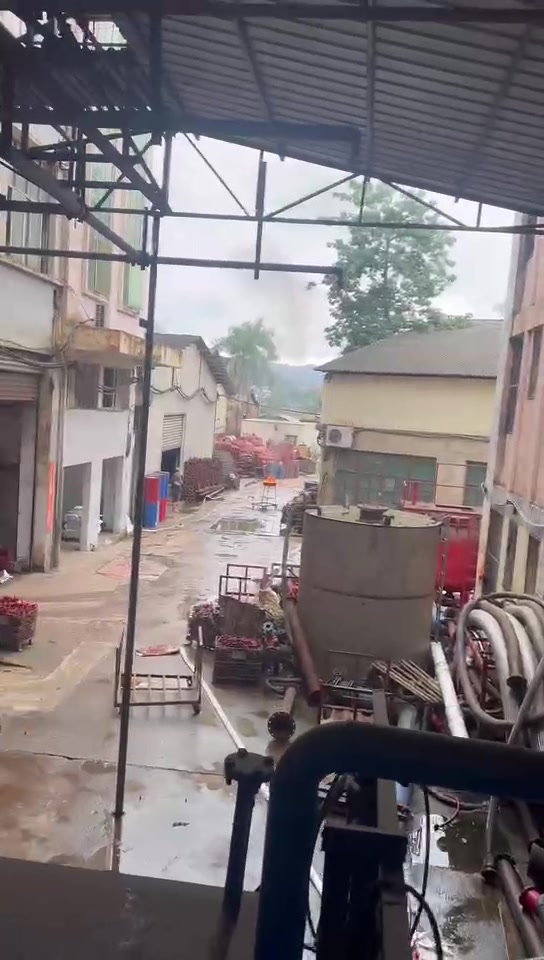fire: (263, 476, 275, 483)
